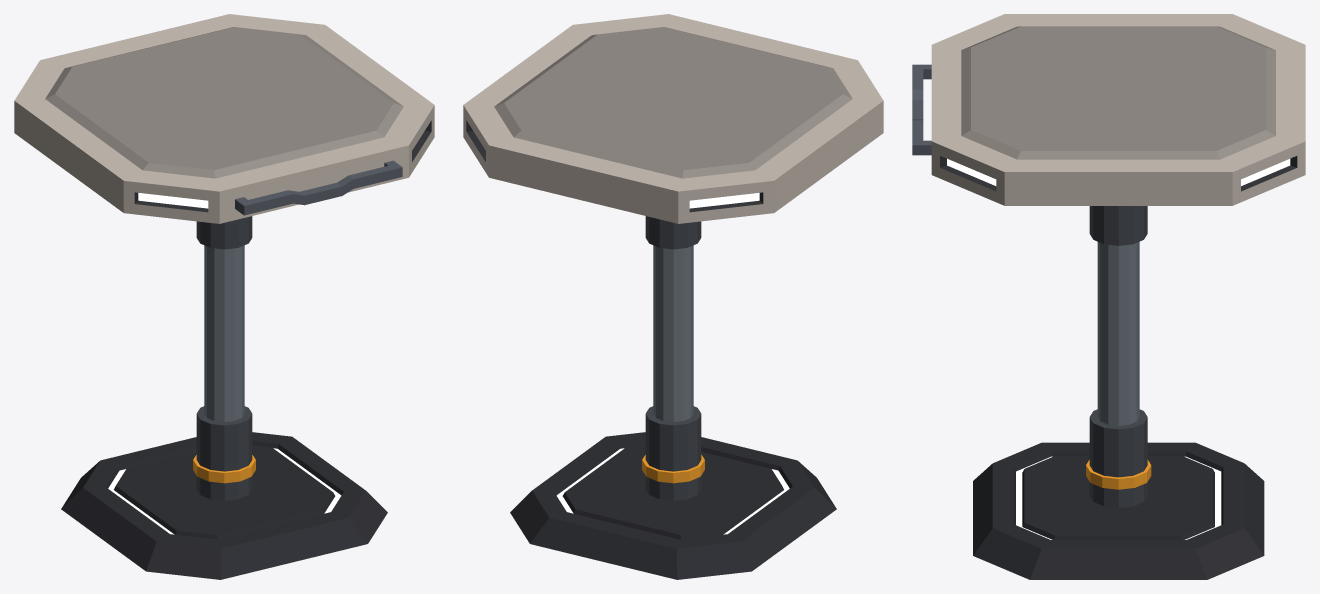
File: SM_Kitchen_Chair.glb
3 renders of one model, left to right at view 1: azimuth 30°, elevation 25°; view 2: azimuth 150°, elevation 25°; view 3: azimuth 270°, elevation 25°, orthographic. The views are drawn at different scales.
Visible parts, largest first — view 1: SM_Kitchen_Chair; view 2: SM_Kitchen_Chair; view 3: SM_Kitchen_Chair.
Part boxes in pixels (x1=…): SM_Kitchen_Chair: x1=14, y1=14, x2=434, y2=579; SM_Kitchen_Chair: x1=463, y1=14, x2=883, y2=579; SM_Kitchen_Chair: x1=912, y1=14, x2=1305, y2=579.
Size of the model in its own units: 0.472 by 0.5982 by 0.4964.
2 materials, 1 textured.
